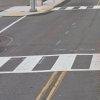Crosswalk: (49, 3, 98, 18)
